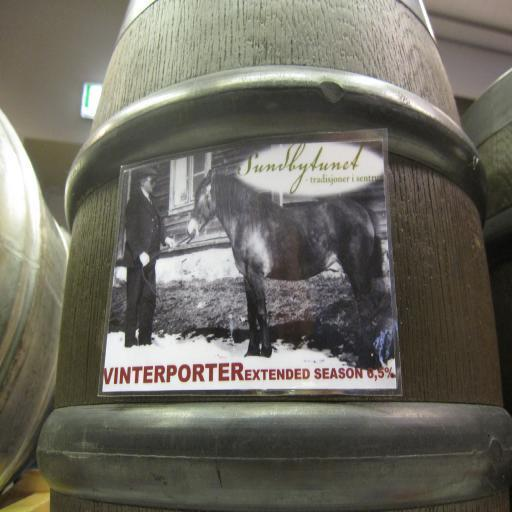horse: (182, 164, 386, 358)
